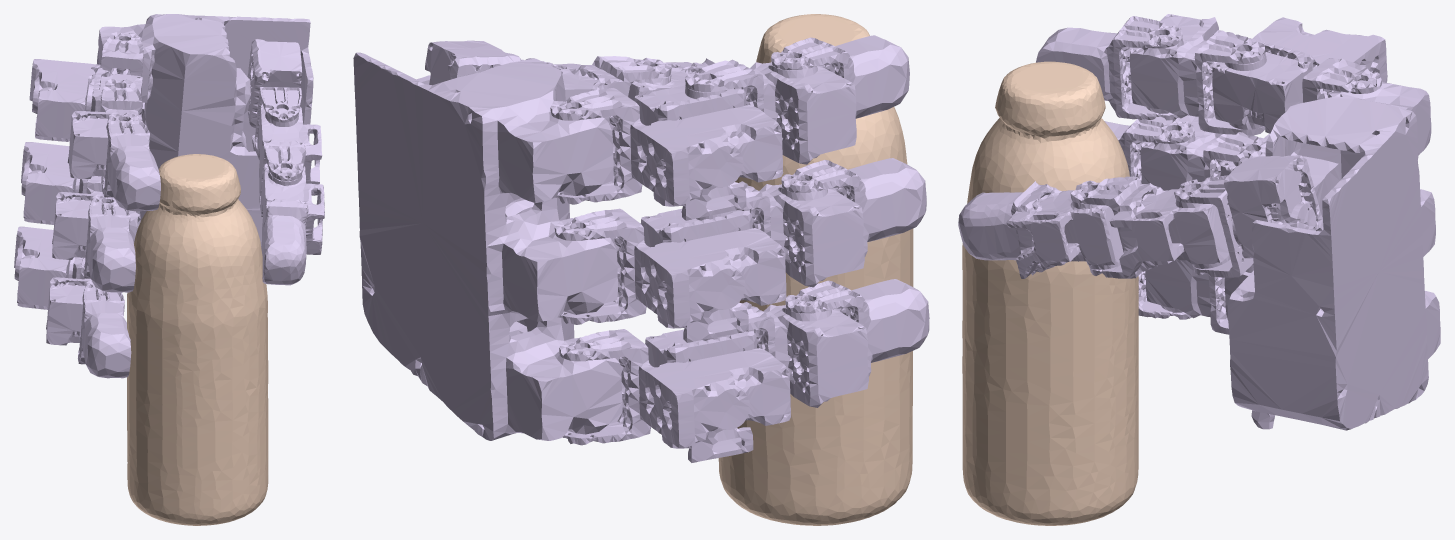
The model's file is 4b324c9df500ff-closed.glb.
3 renders of one model, left to right at view 1: azimuth 30°, elevation 25°; view 2: azimuth 150°, elevation 25°; view 3: azimuth 270°, elevation 25°, orthographic. The views are drawn at different scales.
Parts seen in each view (by area): view 1: LEAP_hand, world; view 2: LEAP_hand, world; view 3: LEAP_hand, world.
Boxes of the visible parts, x1,y1,x2,y2 form: LEAP_hand: (14, 14, 324, 378); world: (127, 154, 268, 525); LEAP_hand: (353, 35, 929, 462); world: (718, 14, 913, 525); LEAP_hand: (958, 14, 1440, 430); world: (962, 61, 1138, 525).
Size of the model in its own units: 0.1782 by 0.1935 by 0.1872.
